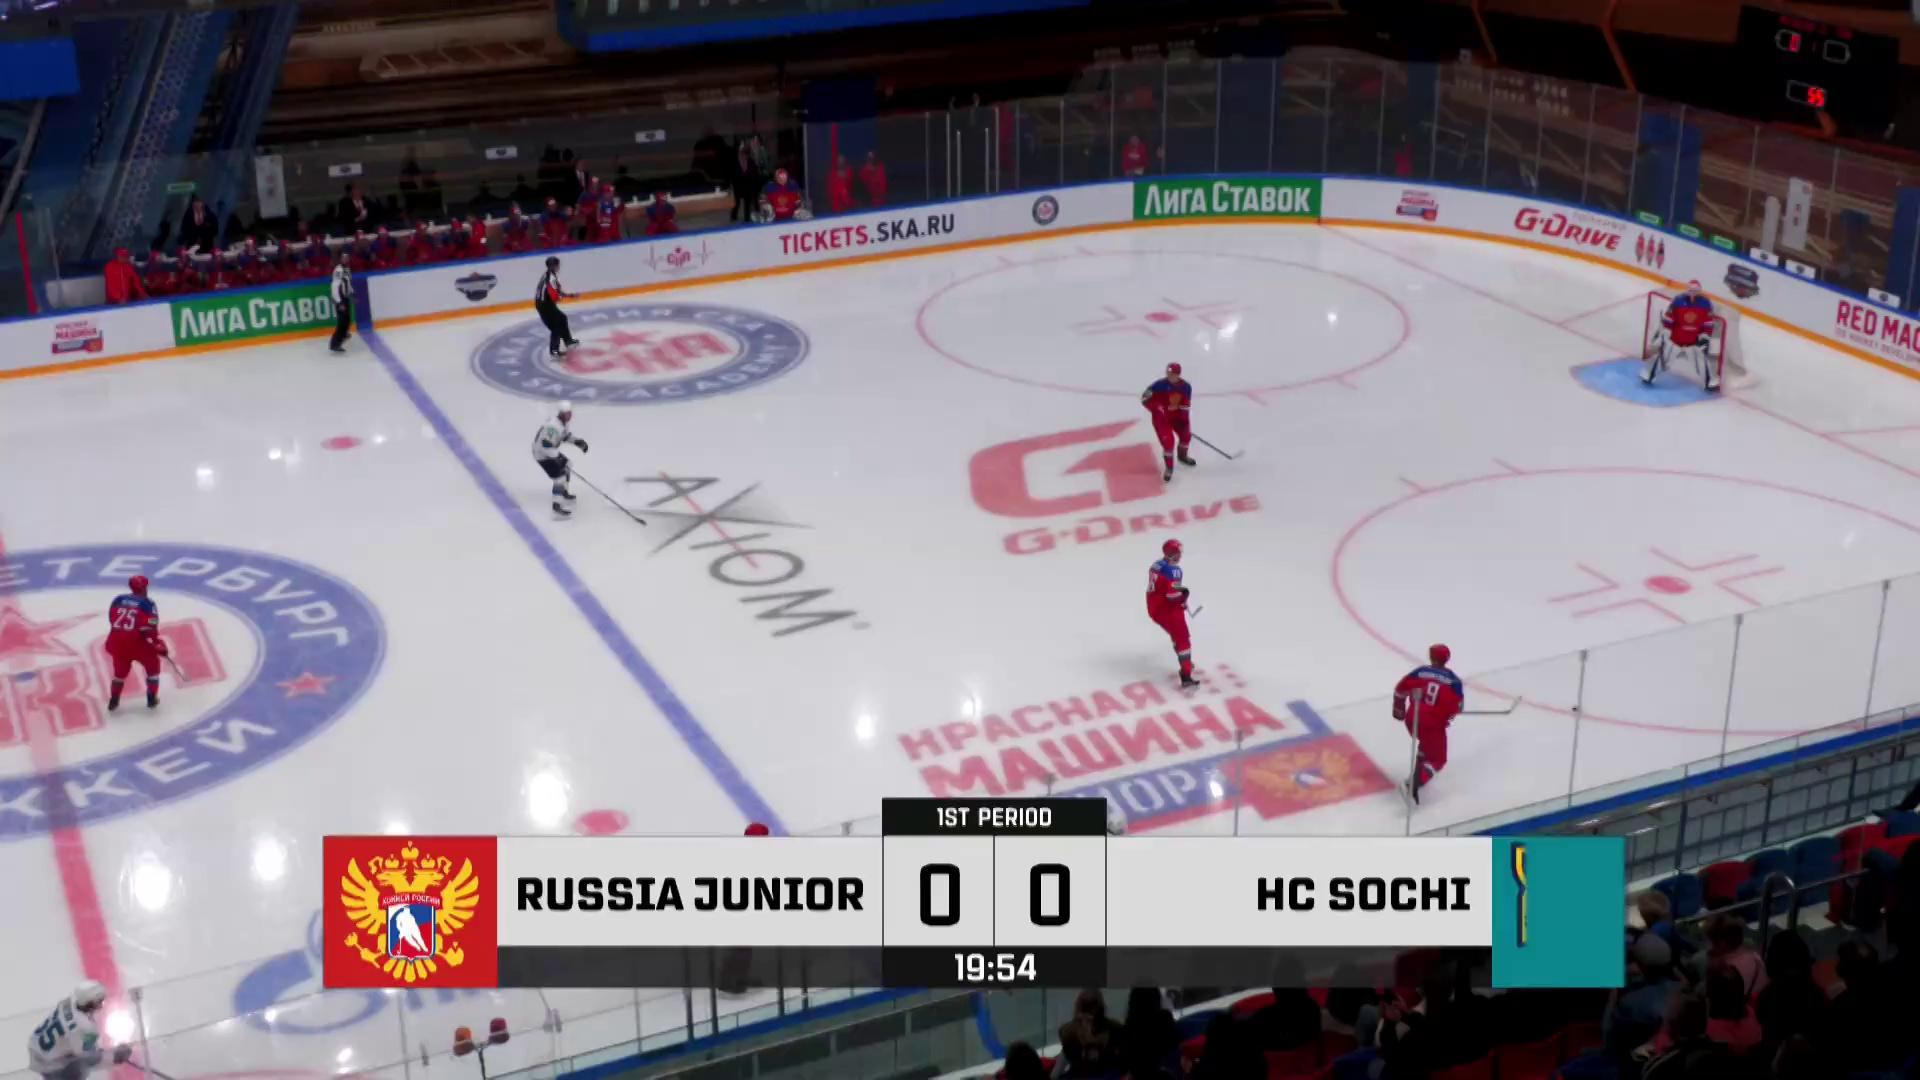ball: (1572, 707, 1578, 711)
